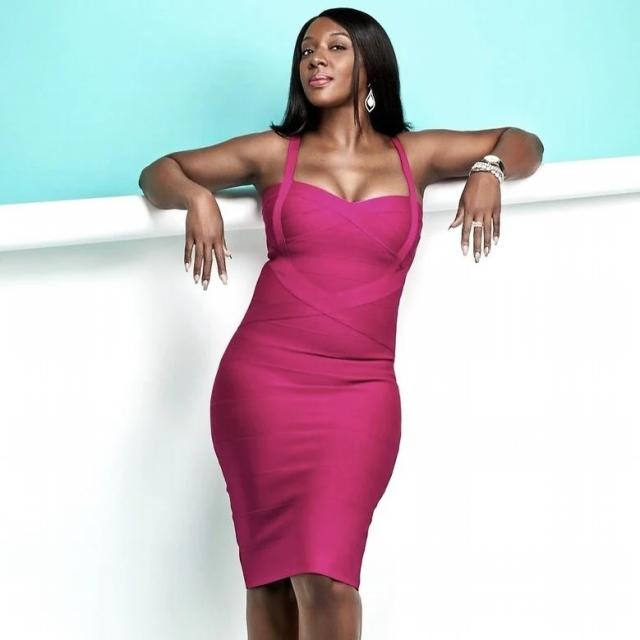clothes: (205, 114, 408, 588)
